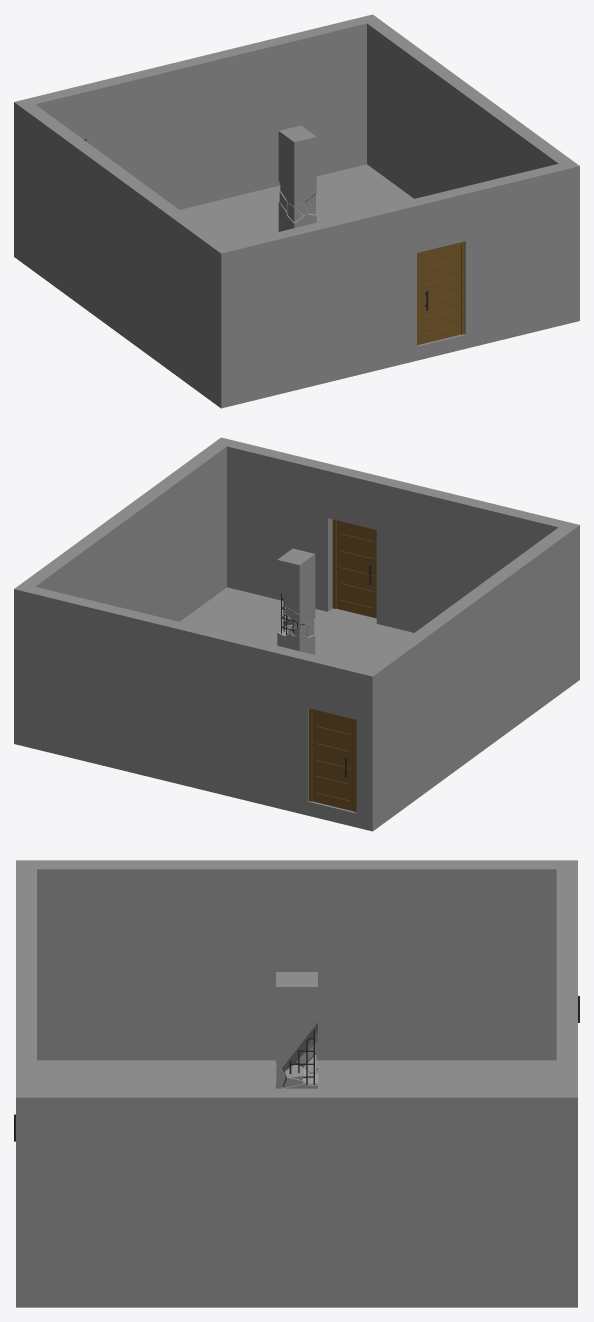
The model's file is MSH_Room_Quad_Damaged_01.fbx.
3 views of the same model, one above another, from view 1: azimuth 30°, elevation 25°; view 2: azimuth 150°, elevation 25°; view 3: azimuth 270°, elevation 25° (orthographic). The views are drawn at different scales.
Parts seen in each view (by area): view 1: MSH_Room_Quad_Damaged_01, MSH_Door_Single013, MSH_DoorFrame_Single013; view 2: MSH_Room_Quad_Damaged_01, MSH_Door_Single006, MSH_Door_Single013, MSH_DoorFrame_Single006; view 3: MSH_Room_Quad_Damaged_01.
Part boxes in pixels (<box>): MSH_Room_Quad_Damaged_01: <box>14,14,579,408</box>; MSH_Door_Single013: <box>419,245,460,344</box>; MSH_DoorFrame_Single013: <box>417,241,464,345</box>; MSH_Room_Quad_Damaged_01: <box>14,437,579,831</box>; MSH_Door_Single006: <box>312,712,354,811</box>; MSH_Door_Single013: <box>336,520,376,618</box>; MSH_DoorFrame_Single006: <box>308,708,356,812</box>; MSH_Room_Quad_Damaged_01: <box>16,860,577,1307</box>.
Size of the model in its own units: 315 by 130 by 317.
